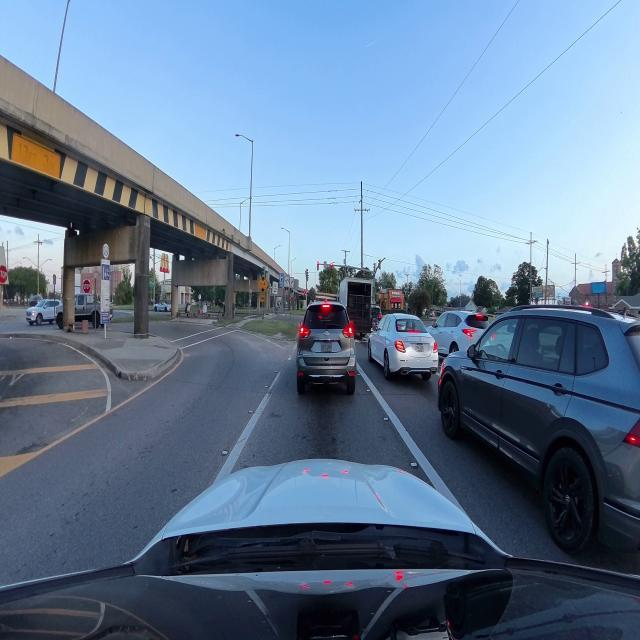car: (438, 306, 639, 552), (297, 302, 356, 394), (368, 314, 438, 379), (429, 311, 489, 356), (26, 300, 61, 325), (371, 307, 382, 331), (154, 302, 170, 311)
